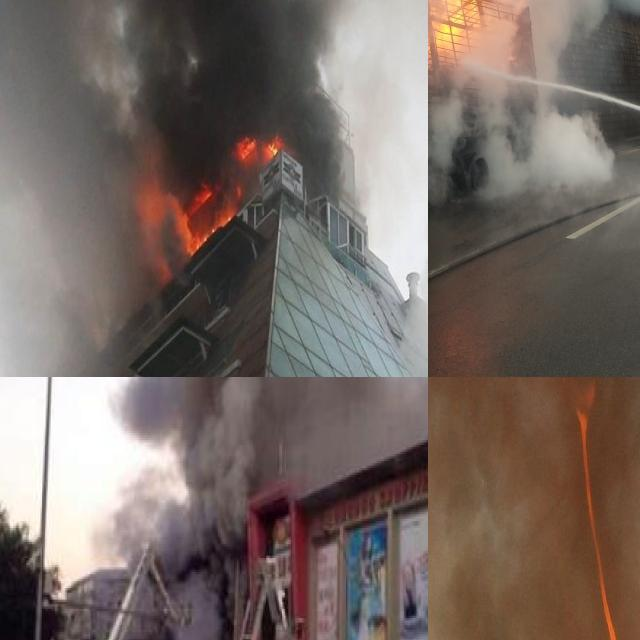fire: (132, 133, 284, 250), (570, 393, 640, 640), (428, 0, 534, 68)
smoke: (88, 377, 428, 569), (428, 377, 640, 640), (0, 1, 144, 377), (149, 5, 345, 198), (428, 59, 616, 207), (164, 574, 223, 640)
